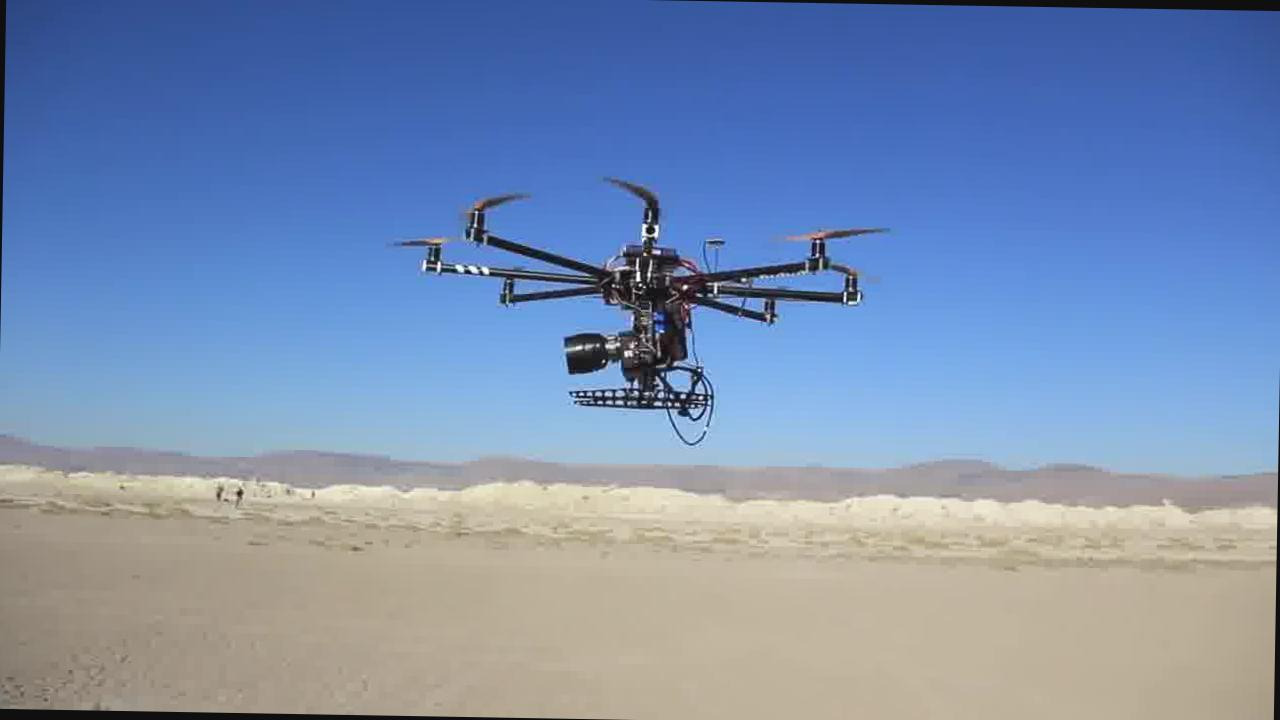drone: (406, 174, 876, 422)
